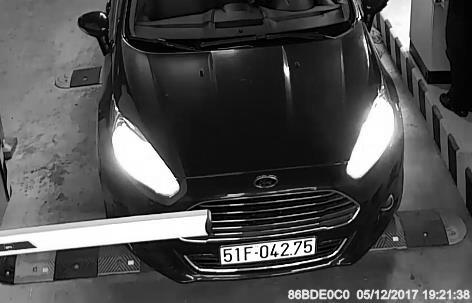License-plate: (219, 237, 321, 265)
